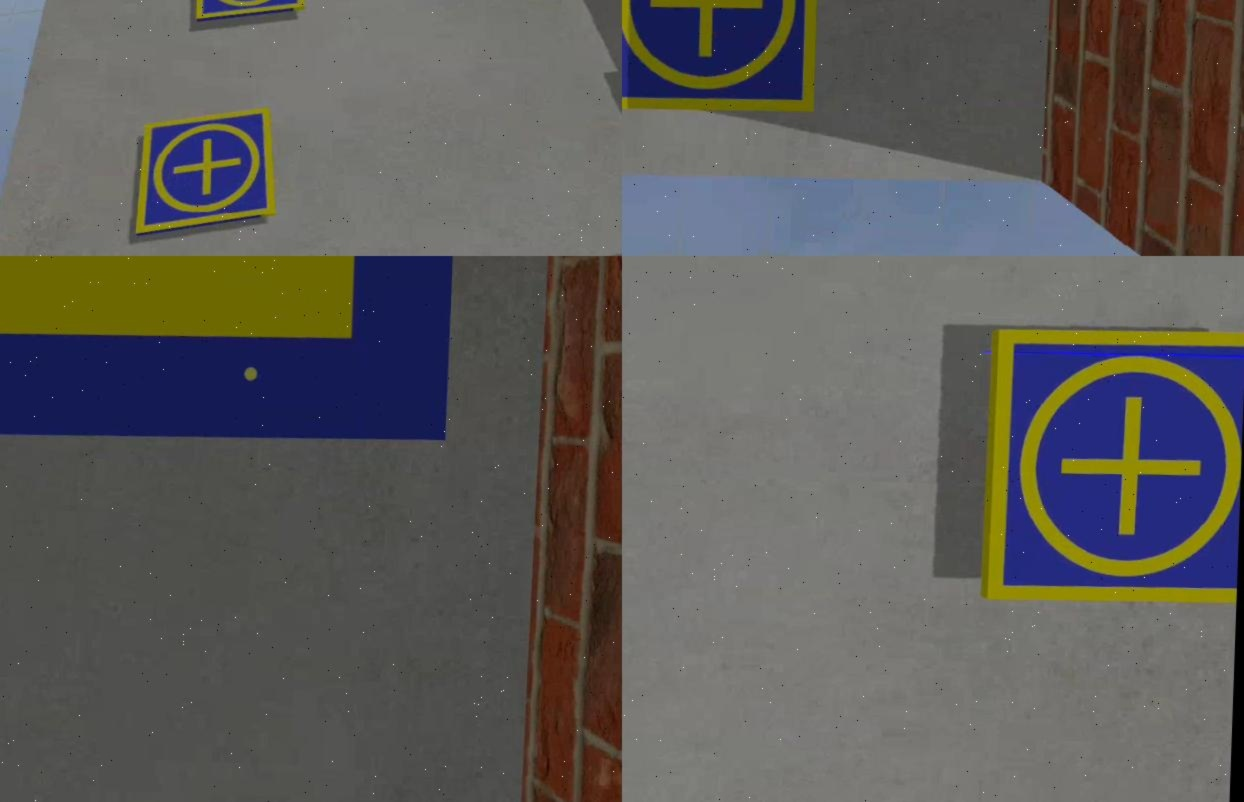large_base: (0, 256, 467, 456)
small_base: (982, 326, 1244, 604), (623, 1, 824, 116), (134, 108, 277, 241), (187, 1, 306, 27)
